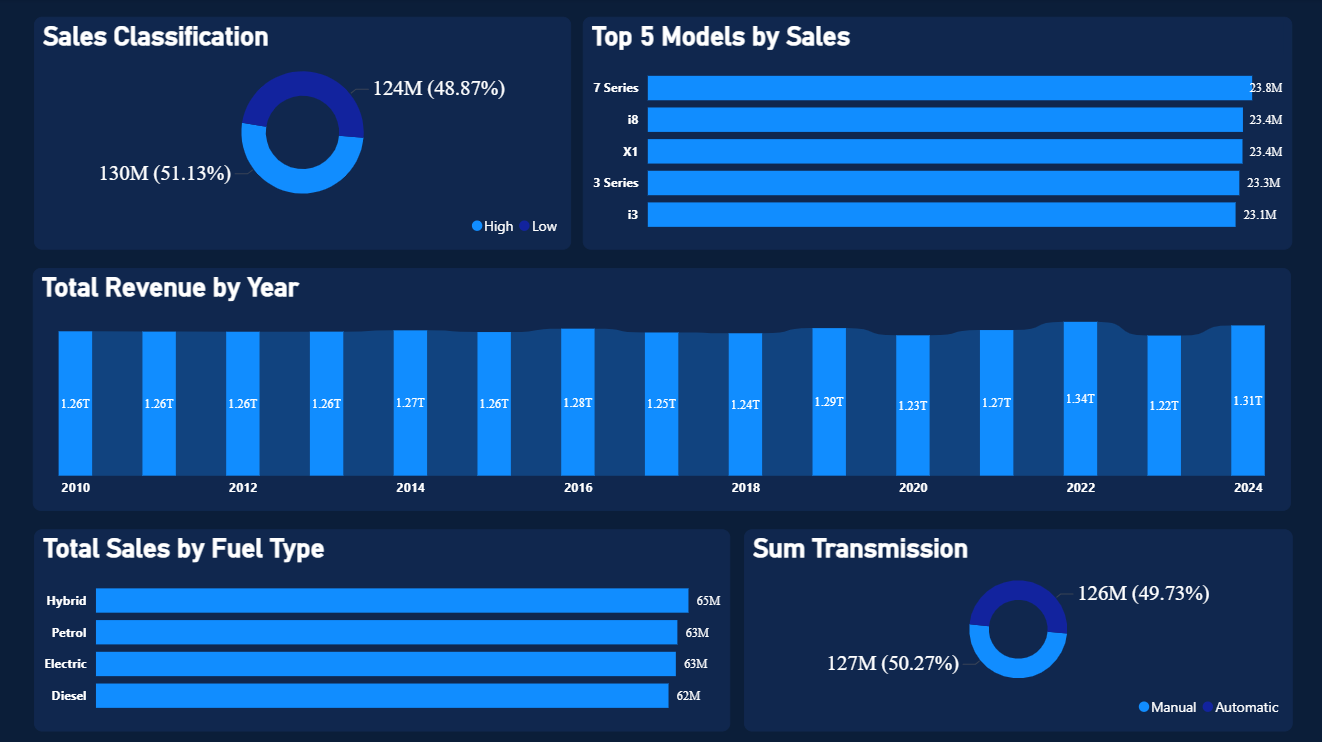

What the dashboard file says about the page in this screenshot:
{"tool":"powerbi","page":{"name":"Page 2","canvas":[1280,720],"ordinal":1},"visuals":[{"type":"barChart","title":"Top 5 Models by Sales","fields":{"Y":["Sum(BMW sales data (2010-2024) (1).Sales_Volume)"],"Category":["BMW sales data (2010-2024) (1).Model"]},"box":[564,17.8,684.7,225],"z":0},{"type":"donutChart","title":"Sales Classification","fields":{"Category":["BMW sales data (2010-2024) (1).Sales_Classification"],"Y":["Sum(BMW sales data (2010-2024) (1).Sales_Volume)"]},"box":[34.3,17.8,518.7,225],"z":2000},{"type":"donutChart","title":"Sum Transmission","fields":{"Category":["BMW sales data (2010-2024) (1).Transmission"],"Y":["Sum(BMW sales data (2010-2024) (1).Sales_Volume)"]},"box":[719,513.2,529.7,194.9],"z":4000},{"type":"barChart","title":"Total Sales by Fuel Type","fields":{"Y":["Sum(BMW sales data (2010-2024) (1).Sales_Volume)"],"Category":["BMW sales data (2010-2024) (1).Fuel_Type"]},"box":[34.3,513.2,672.4,194.9],"z":4003},{"type":"ribbonChart","fields":{"Y":["BMW sales data (2010-2024) (1).Total Revenue"],"Category":["BMW sales data (2010-2024) (1).Year"]},"box":[32.9,260.7,1214.4,234.6],"z":4004}]}

Visuals, with their boxes in screenshot pixels (x1, y1, x2, y2), scaled from the page's 1280x720 canvas onto the 1322x742 screenshot:
"Top 5 Models by Sales" barChart: box(583, 18, 1290, 250)
"Sales Classification" donutChart: box(35, 18, 571, 250)
"Sum Transmission" donutChart: box(743, 529, 1290, 730)
"Total Sales by Fuel Type" barChart: box(35, 529, 730, 730)
ribbonChart - BMW sales data (2010-2024) (1).Total Revenue x BMW sales data (2010-2024) (1).Year: box(34, 269, 1288, 510)
